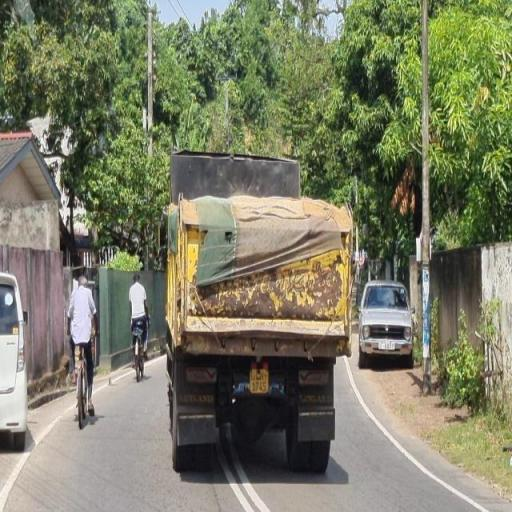double_white_line: (338, 354, 492, 511)
